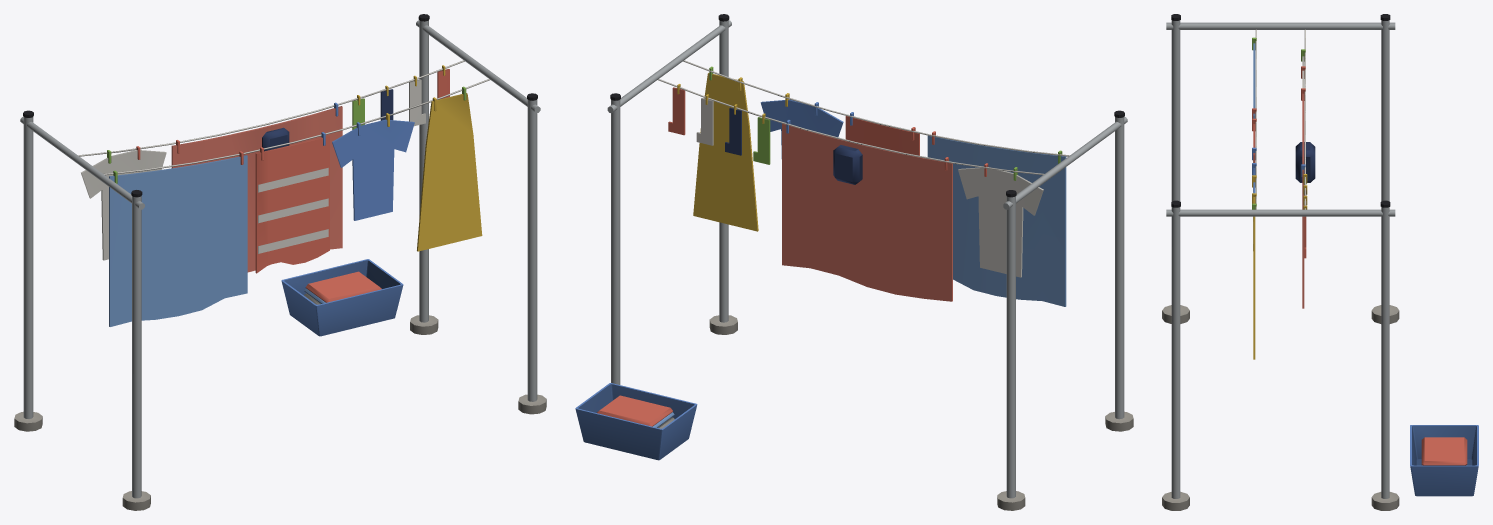
The model's file is WashingLine.fbx.
3 renders of one model, left to right at view 1: azimuth 30°, elevation 25°; view 2: azimuth 150°, elevation 25°; view 3: azimuth 270°, elevation 25°, orthographic. The views are drawn at different scales.
Parts seen in each view (by area): view 1: WashingLine; view 2: WashingLine; view 3: WashingLine.
Boxes of the visible parts, x1=… form: WashingLine: x1=14, y1=14, x2=546, y2=510; WashingLine: x1=575, y1=14, x2=1133, y2=510; WashingLine: x1=1162, y1=14, x2=1478, y2=510.
Size of the model in its own units: 2.86 by 2.04 by 1.94.
